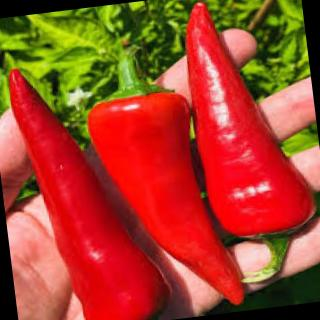Cabai Hijau: (275, 1, 303, 25)
Cabai Merah: (14, 66, 160, 320), (177, 1, 320, 252), (108, 93, 241, 316)
